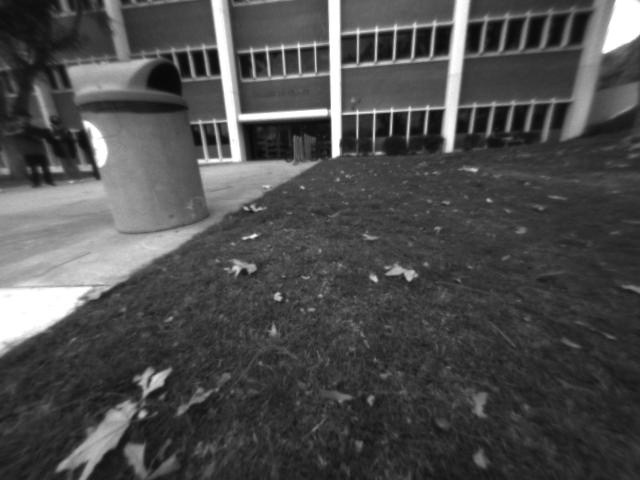trashcan: (54, 54, 216, 235)
